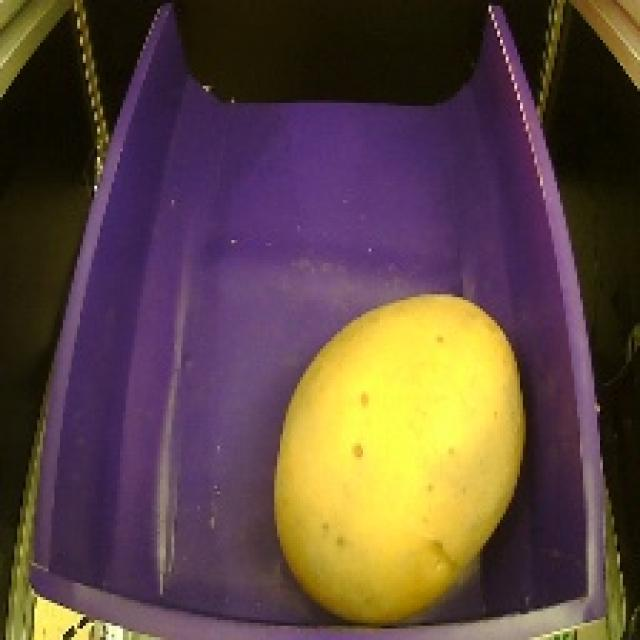full_potato: (254, 284, 540, 634)
